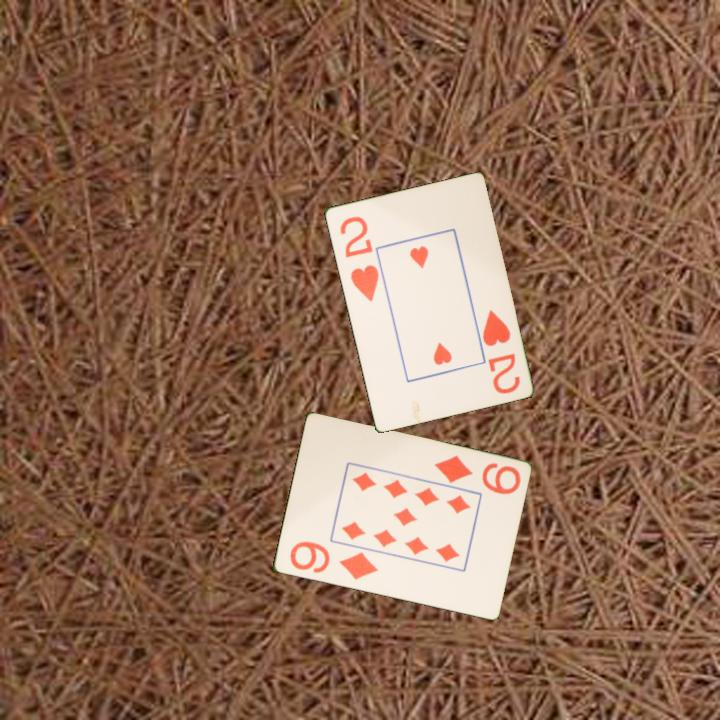2h: (336, 213, 381, 304), (478, 306, 523, 397)
9d: (286, 538, 381, 583), (431, 452, 523, 498)
